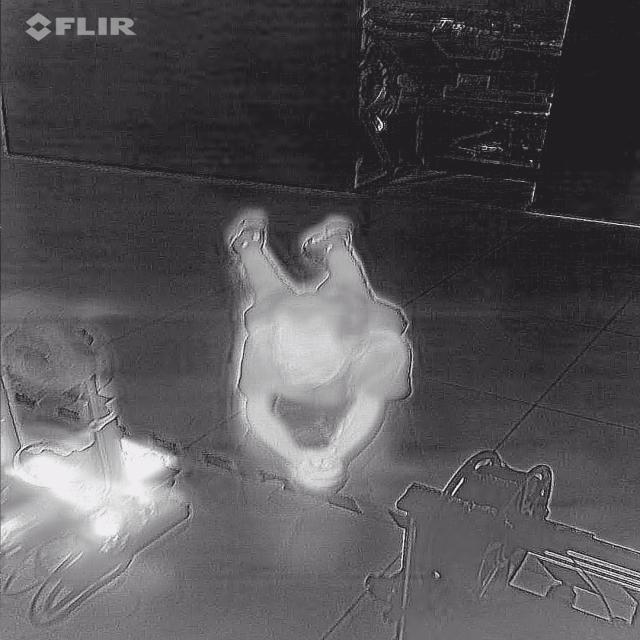Victim: (210, 201, 424, 505)
